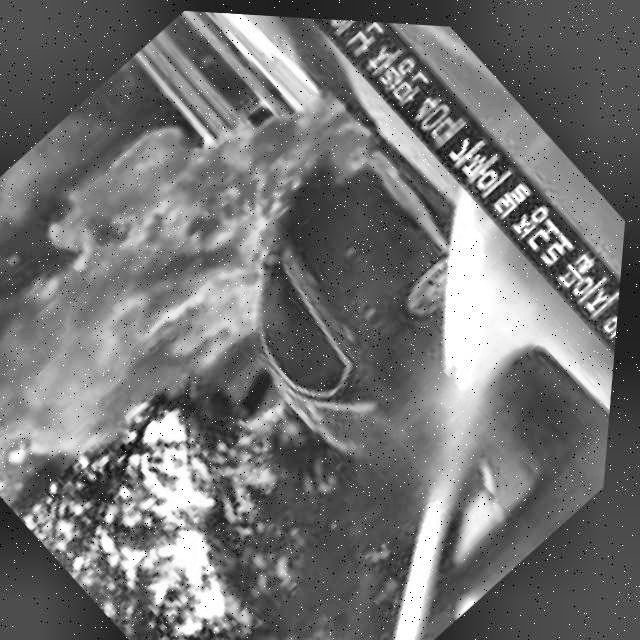Fire: (0, 0, 477, 570)
